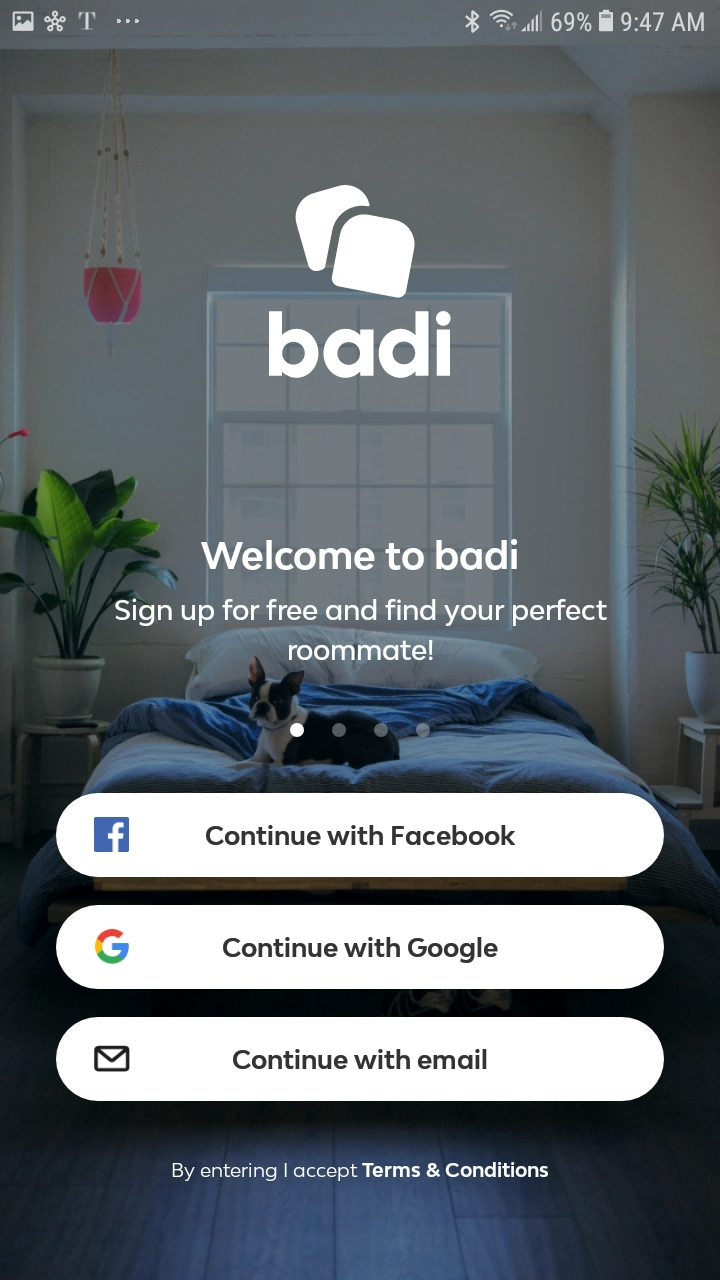BackgroundImage: (1, 50, 720, 1280)
Image: (295, 185, 416, 300)
PageIndicator: (289, 722, 431, 738)
Text: (115, 598, 608, 662), (268, 310, 452, 380), (201, 538, 519, 571), (172, 1161, 549, 1182)
TextButton: (56, 792, 665, 878), (56, 905, 665, 990), (56, 1017, 664, 1102)
UpperTaskBar: (1, 1, 720, 50)
